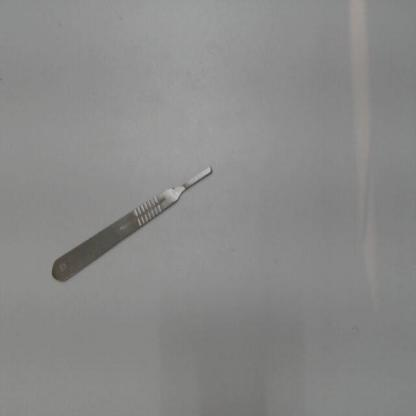No.4 BP Handle: (41, 157, 224, 291)
